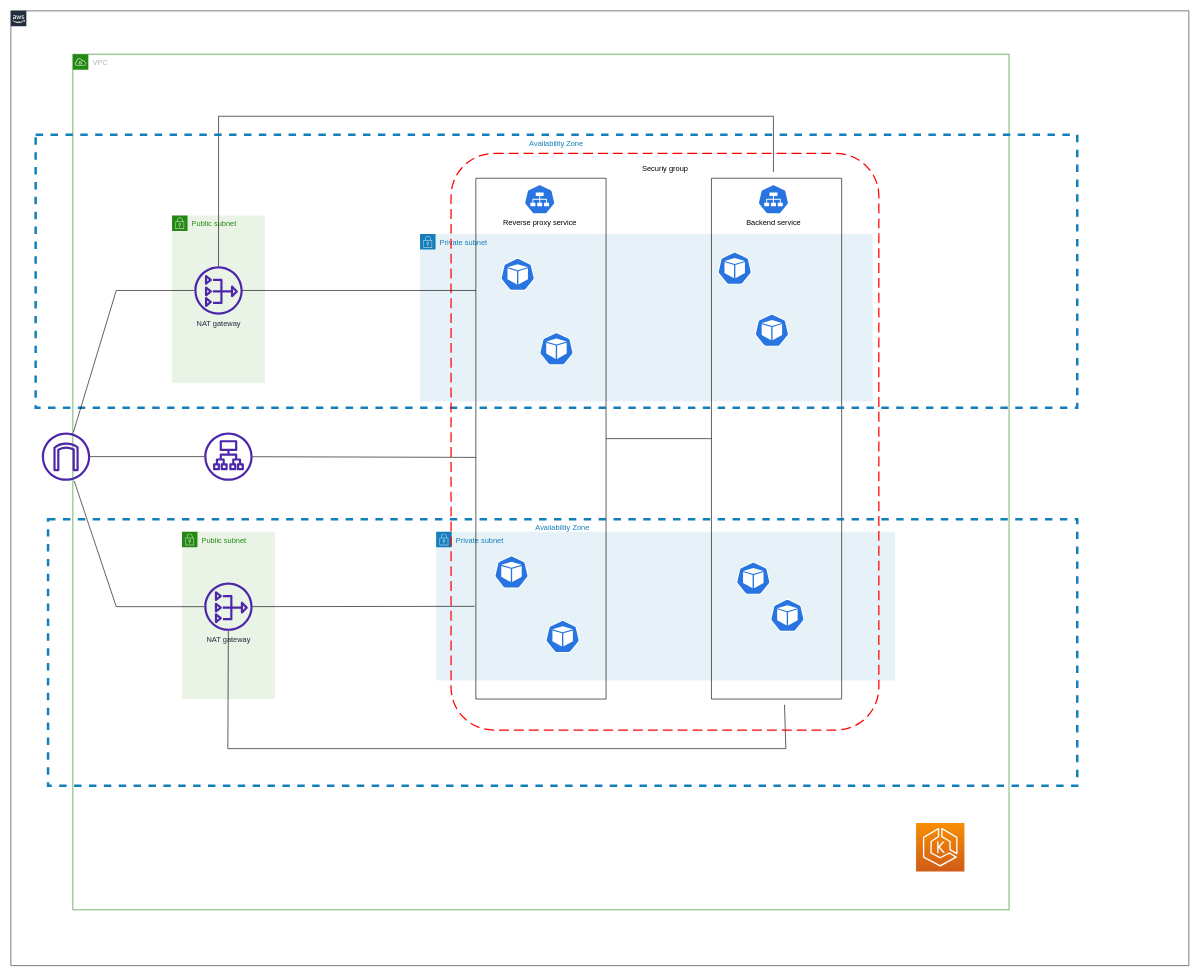
Image size: 1200x977. Some labels were removed from this diagram. The centre of each missing label's shape, as x and y in pixels:
"Application load balancer" goes at point (228, 456).
"EKS control plane" goes at point (939, 846).
"IGW" goes at point (66, 456).
